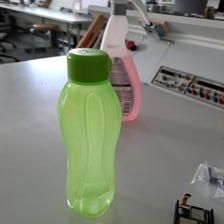bottle: (60, 47, 126, 215)
